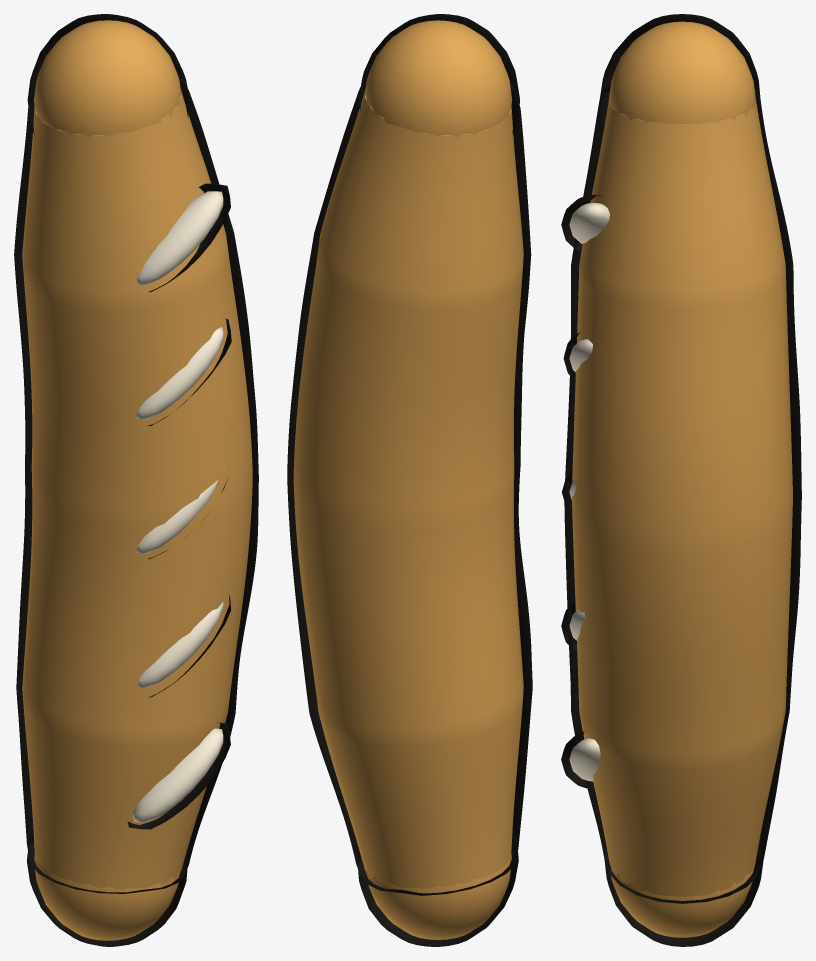
File: baguette.glb
The picture shows the model from 3 angles, left to right: view 1: azimuth 30°, elevation 25°; view 2: azimuth 150°, elevation 25°; view 3: azimuth 270°, elevation 25°; orthographic projection.
Visible parts, largest first — view 1: Baguette, Baguette_outline; view 2: Baguette, Baguette_outline; view 3: Baguette, Baguette_outline.
Part boxes in pixels (x1,y1,x2,y2): Baguette: (22, 20, 252, 940); Baguette_outline: (14, 14, 258, 946); Baguette: (293, 20, 523, 939); Baguette_outline: (287, 14, 532, 946); Baguette: (569, 21, 792, 937); Baguette_outline: (561, 14, 801, 946).
Size of the model in its own units: 1.01 by 4.12 by 0.9798.
